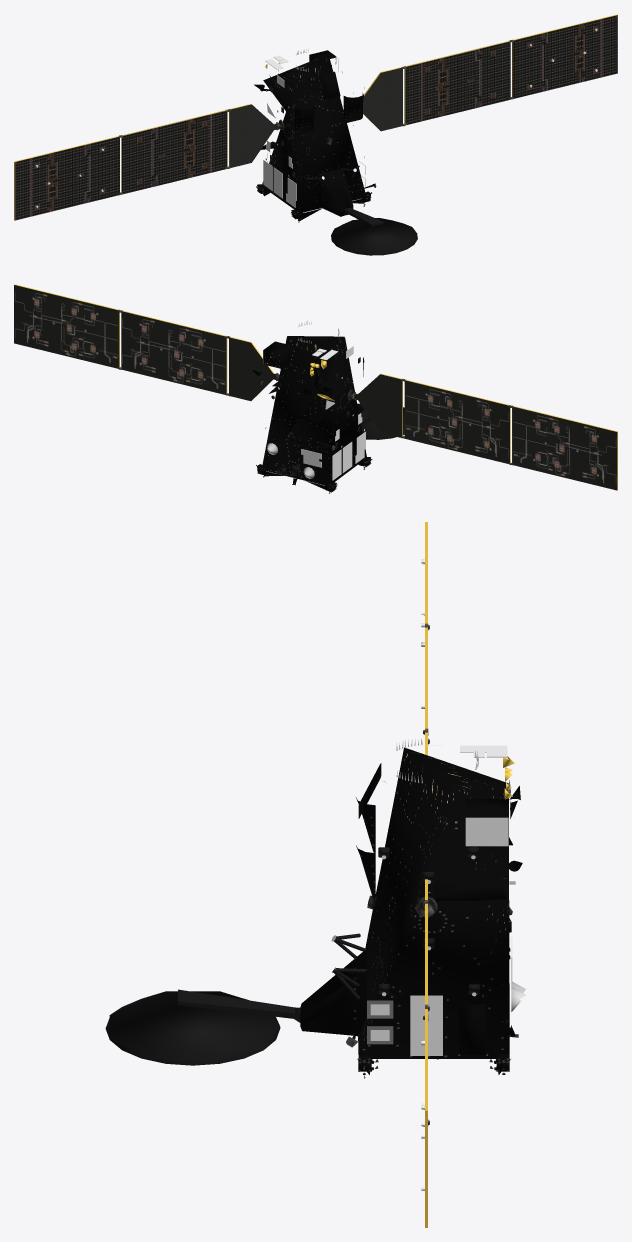
The model's file is tgo-low.glb.
3 renders of one model, top to bottom at view 1: azimuth 30°, elevation 25°; view 2: azimuth 150°, elevation 25°; view 3: azimuth 270°, elevation 25°, orthographic. The views are drawn at different scales.
Visible parts, largest first — view 1: left_array_2, TGO_BUS, array_gimbals, reflectors, left_array_1; view 2: array_gimbals, TGO_BUS, reflectors, left_array_1; view 3: TGO_BUS, reflectors, left_array_1, array_gimbals.
Boxes of the visible parts, box(x1,y1,x2,y2) form: left_array_2: box(14, 15, 617, 220); TGO_BUS: box(254, 50, 417, 255); array_gimbals: box(118, 39, 513, 222); reflectors: box(263, 51, 338, 207); left_array_1: box(14, 14, 617, 220); array_gimbals: box(14, 285, 617, 493); TGO_BUS: box(252, 336, 404, 492); reflectors: box(261, 342, 365, 480); left_array_1: box(14, 284, 617, 490); TGO_BUS: box(105, 747, 522, 1074); reflectors: box(366, 745, 515, 1055); left_array_1: box(425, 522, 427, 1227); array_gimbals: box(346, 623, 526, 1125).
Bounding box in the file's own units: 17.53 × 4.13 × 5.3.
Materials: 11 (3 with a texture image).
